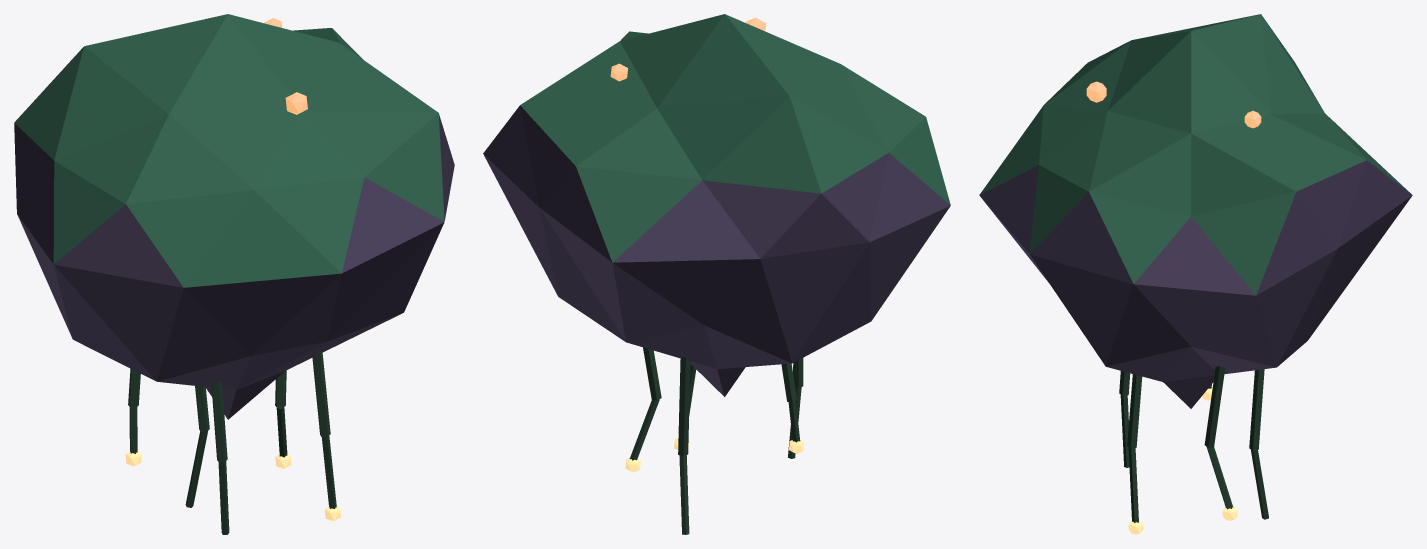
The model's file is Pandora_SkyIsle.glb.
3 renders of one model, left to right at view 1: azimuth 30°, elevation 25°; view 2: azimuth 150°, elevation 25°; view 3: azimuth 270°, elevation 25°, orthographic. The views are drawn at different scales.
Visible parts, largest first — view 1: SkyIsle_Body, SkyIsle_Vines, SkyIsle_Bulbs, SkyIsle_Shrooms; view 2: SkyIsle_Body, SkyIsle_Vines; view 3: SkyIsle_Body, SkyIsle_Vines, SkyIsle_Shrooms.
Part boxes in pixels (x1=…): SkyIsle_Body: x1=14, y1=14, x2=454, y2=419; SkyIsle_Vines: x1=128, y1=351, x2=336, y2=534; SkyIsle_Bulbs: x1=125, y1=452, x2=340, y2=521; SkyIsle_Shrooms: x1=264, y1=18, x2=307, y2=114; SkyIsle_Body: x1=483, y1=14, x2=950, y2=396; SkyIsle_Vines: x1=629, y1=347, x2=803, y2=534; SkyIsle_Body: x1=979, y1=14, x2=1412, y2=408; SkyIsle_Vines: x1=1119, y1=366, x2=1268, y2=522; SkyIsle_Shrooms: x1=1086, y1=81, x2=1261, y2=128.
Bounding box in the file's own units: 4.8 × 5.6 × 4.52.
